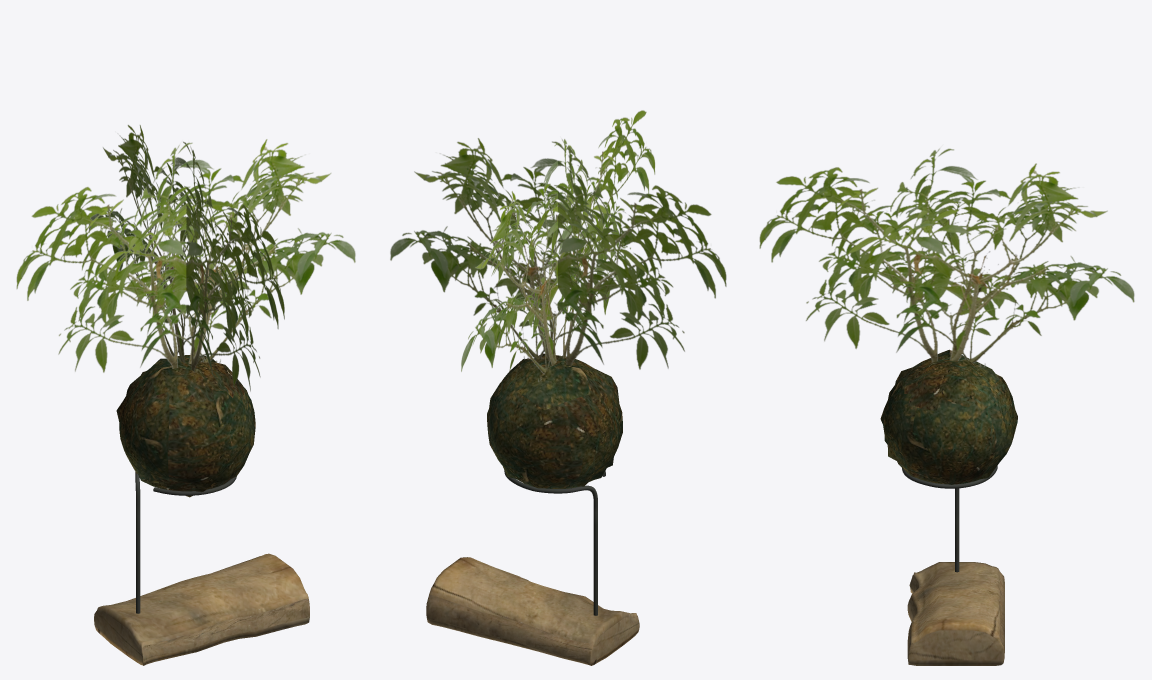
File: kokedama_bonsai.glb
3 renders of one model, left to right at view 1: azimuth 30°, elevation 25°; view 2: azimuth 150°, elevation 25°; view 3: azimuth 270°, elevation 25°, orthographic. The views are drawn at different scales.
Visible parts, largest first — view 1: KokedamaBonsai2_BaseColor.001_2, Kokedama_Asparagus.002_1, Trunk.002_0; view 2: KokedamaBonsai2_BaseColor.001_2, Kokedama_Asparagus.002_1, Trunk.002_0; view 3: KokedamaBonsai2_BaseColor.001_2, Kokedama_Asparagus.002_1, Trunk.002_0.
Boxes of the visible parts, <box> form: KokedamaBonsai2_BaseColor.001_2: <box>16,125,355,391</box>; Kokedama_Asparagus.002_1: <box>116,355,255,613</box>; Trunk.002_0: <box>94,553,309,665</box>; KokedamaBonsai2_BaseColor.001_2: <box>390,110,726,381</box>; Kokedama_Asparagus.002_1: <box>487,353,622,615</box>; Trunk.002_0: <box>426,557,639,665</box>; KokedamaBonsai2_BaseColor.001_2: <box>759,148,1134,366</box>; Kokedama_Asparagus.002_1: <box>880,349,1017,572</box>; Trunk.002_0: <box>907,562,1004,665</box>.
Size of the model in its own units: 2.38 by 3.64 by 2.38.
Materials: 3 (3 with a texture image).
